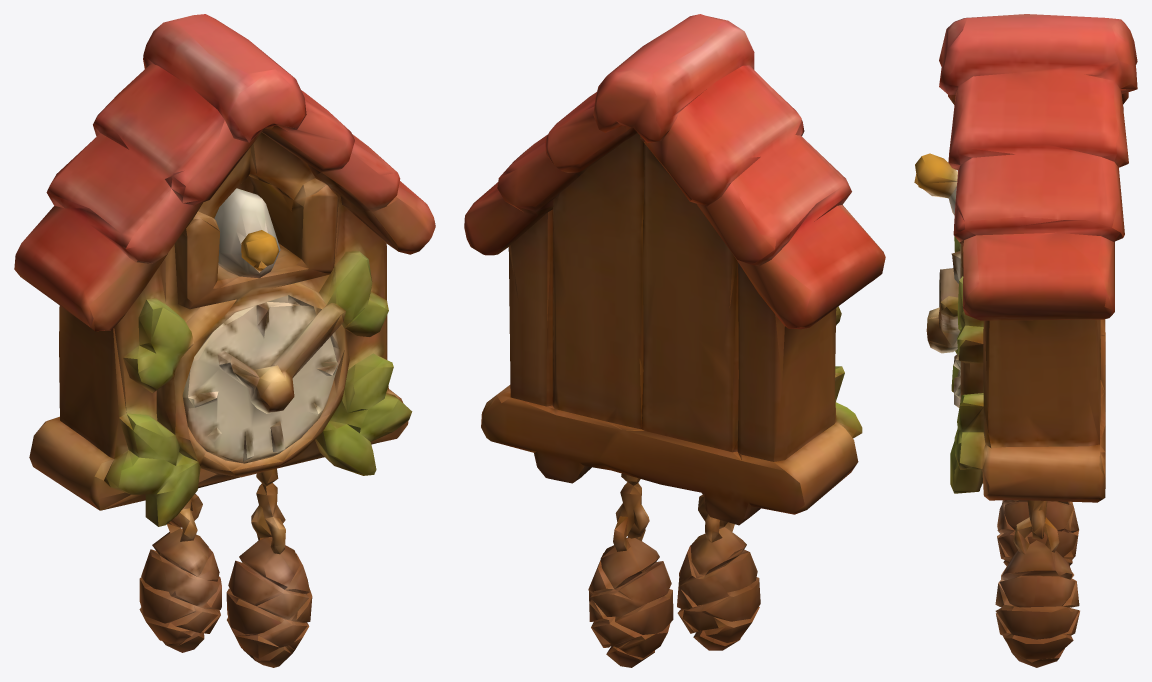
The model's file is wall04.glb.
3 views of the same model, side by side, from view 1: azimuth 30°, elevation 25°; view 2: azimuth 150°, elevation 25°; view 3: azimuth 270°, elevation 25° (orthographic).
Size of the model in its own units: 0.1821 by 0.3079 by 0.1.
Materials: 1 (1 with a texture image).
